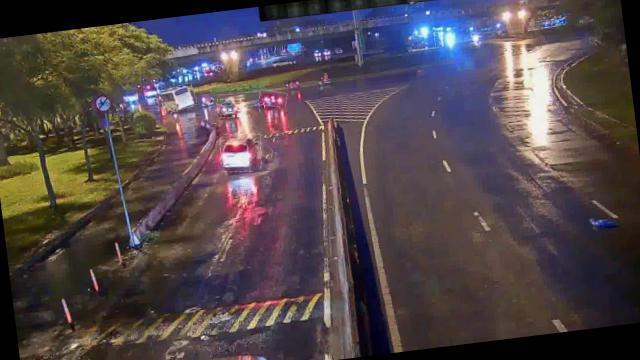Bus: (160, 82, 197, 112)
Car: (217, 130, 263, 174), (256, 88, 286, 109), (216, 98, 242, 120)
